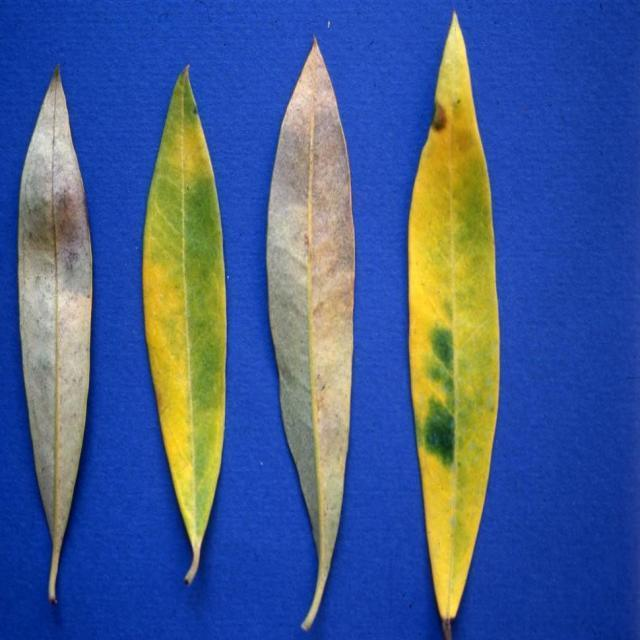OlivePeacockSpot: (408, 14, 498, 639), (266, 41, 354, 630), (142, 66, 225, 584), (18, 65, 92, 589)
